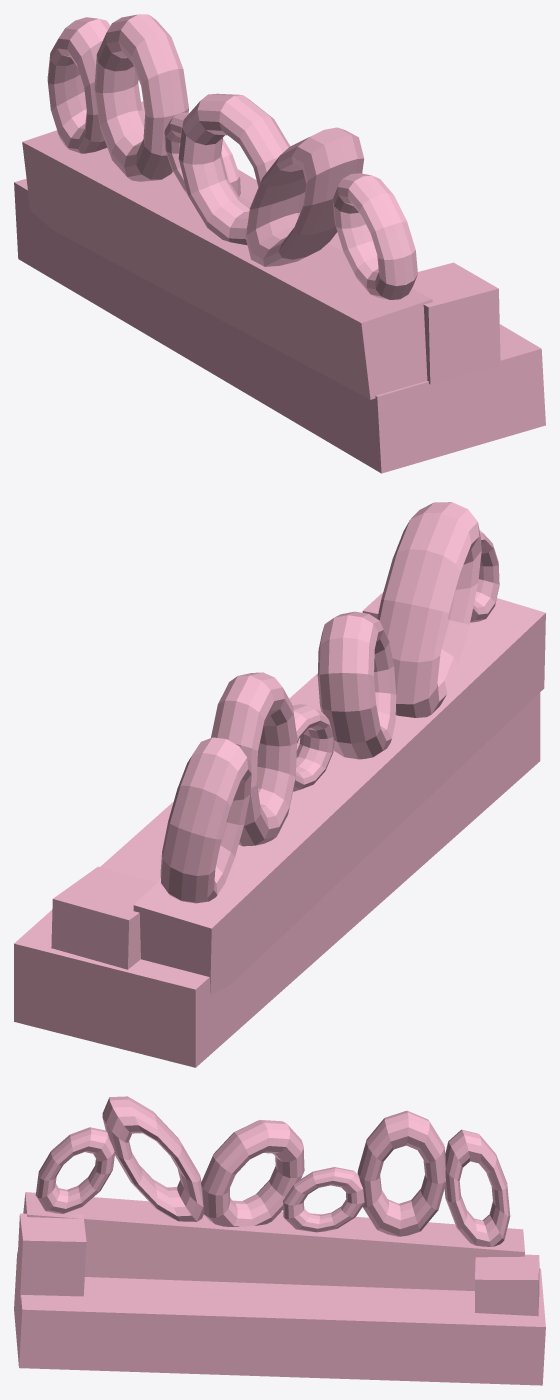
Rendered from modelC.obj.
3 views of the same model, one above another, from view 1: azimuth 30°, elevation 25°; view 2: azimuth 150°, elevation 25°; view 3: azimuth 270°, elevation 25° (orthographic). The views are drawn at different scales.
Visible parts, largest first — view 1: group997983099, group795516396, group32685562, group249111936, group250445496, group672843478, group1115652965, group438409493, group18155240; view 2: group997983099, group795516396, group249111936, group438409493, group250445496, group32685562, group1601070232, group18155240, group1115652965; view 3: group795516396, group997983099, group250445496, group32685562, group249111936, group672843478, group438409493, group1115652965, group1601070232, group18155240.
Part boxes in pixels (bbox=[...]): group997983099: bbox=[22, 130, 432, 399]; group795516396: bbox=[14, 169, 545, 473]; group32685562: bbox=[94, 14, 188, 181]; group249111936: bbox=[245, 127, 364, 266]; group250445496: bbox=[178, 93, 290, 244]; group672843478: bbox=[412, 262, 500, 384]; group1115652965: bbox=[332, 173, 417, 299]; group438409493: bbox=[47, 17, 110, 153]; group18155240: bbox=[164, 112, 240, 196]; group997983099: bbox=[133, 598, 545, 995]; group795516396: bbox=[14, 673, 540, 1067]; group249111936: bbox=[377, 502, 481, 717]; group438409493: bbox=[160, 737, 251, 903]; group250445496: bbox=[317, 611, 396, 759]; group32685562: bbox=[211, 672, 297, 846]; group1601070232: bbox=[51, 866, 156, 969]; group18155240: bbox=[293, 704, 334, 791]; group1115652965: bbox=[470, 530, 499, 622]; group795516396: bbox=[14, 1251, 545, 1385]; group997983099: bbox=[23, 1192, 524, 1290]; group250445496: bbox=[201, 1120, 304, 1226]; group32685562: bbox=[357, 1110, 445, 1236]; group249111936: bbox=[102, 1096, 203, 1221]; group672843478: bbox=[17, 1213, 86, 1298]; group438409493: bbox=[444, 1129, 510, 1246]; group1115652965: bbox=[35, 1127, 114, 1213]; group1601070232: bbox=[475, 1254, 539, 1316]; group18155240: bbox=[282, 1167, 364, 1232].
Size of the model in its own units: 0.2128 by 0.3344 by 0.668.
